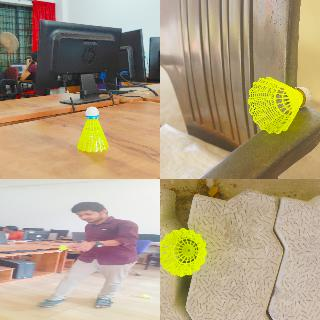shuttlecock: (248, 76, 310, 134), (160, 228, 207, 277), (76, 106, 110, 152), (56, 244, 70, 251)
